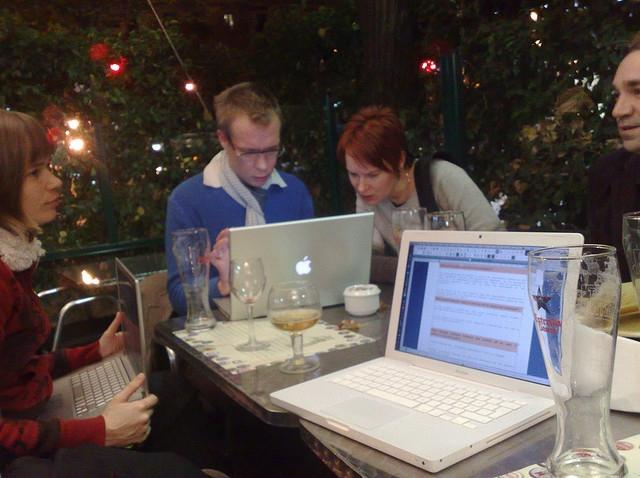apple: (296, 261, 311, 275)
